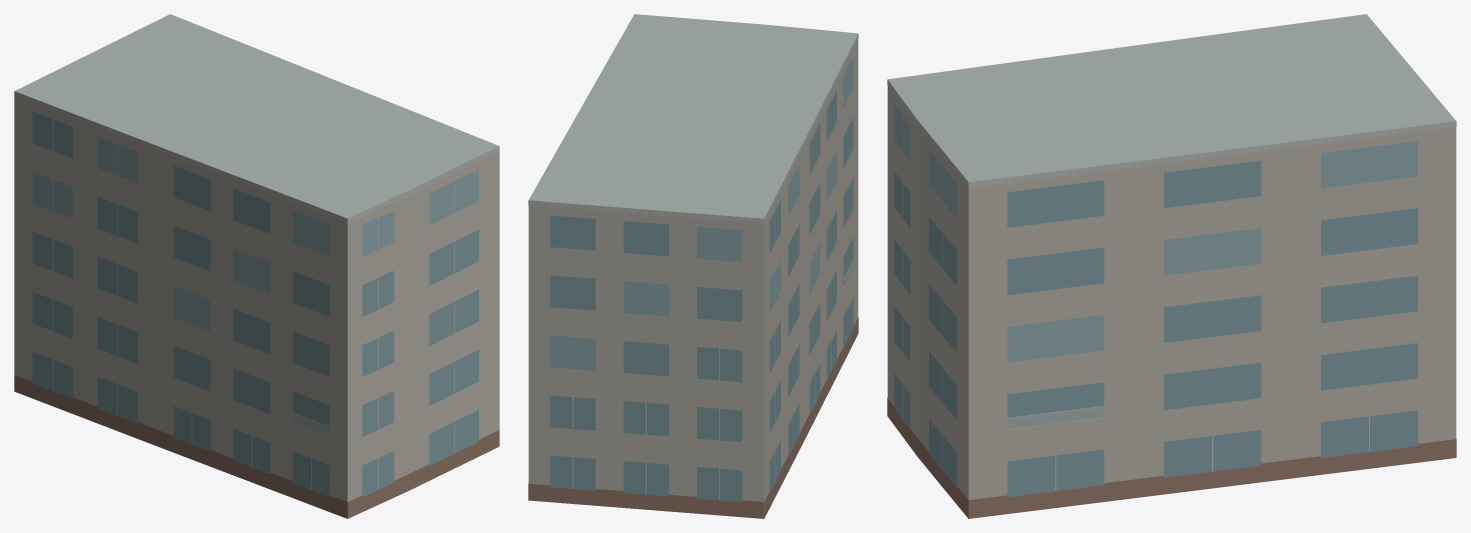
Rendered from survey-upis-33025353.glb.
3 renders of one model, left to right at view 1: azimuth 30°, elevation 25°; view 2: azimuth 150°, elevation 25°; view 3: azimuth 270°, elevation 25°, orthographic. The views are drawn at different scales.
Visible parts, largest first — view 1: survey-upis-33025353.tmp; view 2: survey-upis-33025353.tmp; view 3: survey-upis-33025353.tmp.
Part boxes in pixels (left/top/right/bottom): survey-upis-33025353.tmp: left=14, top=14, right=499, bottom=518; survey-upis-33025353.tmp: left=528, top=14, right=858, bottom=518; survey-upis-33025353.tmp: left=887, top=14, right=1456, bottom=518.
Bounding box in the file's own units: 15.38 × 14.35 × 21.99.
